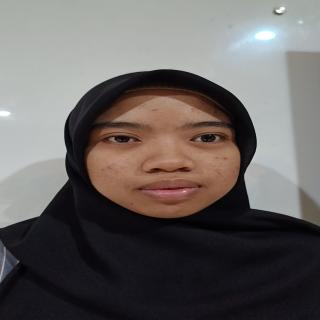Netral: (71, 82, 252, 226)
